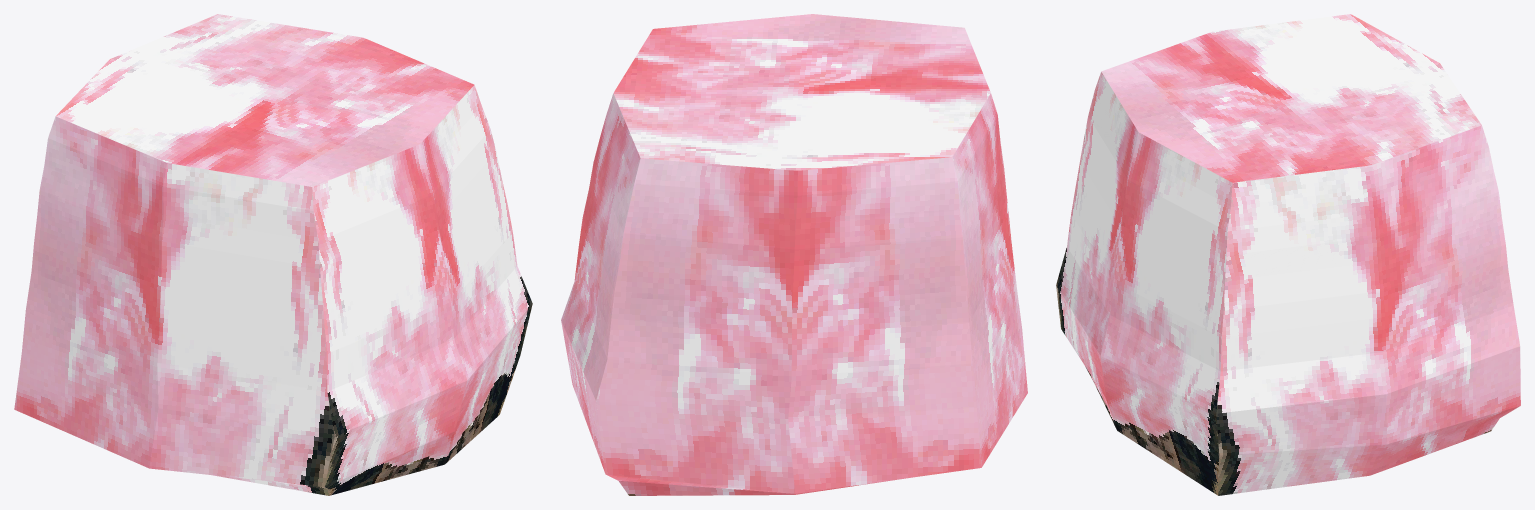
The picture shows the model from 3 angles, left to right: view 1: azimuth 30°, elevation 25°; view 2: azimuth 150°, elevation 25°; view 3: azimuth 270°, elevation 25°; orthographic projection. The views are drawn at different scales.
Visible parts, largest first — view 1: SPLICE_2; view 2: SPLICE_2; view 3: SPLICE_2.
Boxes of the visible parts, x1,y1,x2,y2 form: SPLICE_2: [14, 14, 532, 495]; SPLICE_2: [561, 14, 1027, 495]; SPLICE_2: [1056, 14, 1520, 495].
Size of the model in its own units: 1.55 by 1.14 by 1.53.
Materials: 1 (1 with a texture image).
